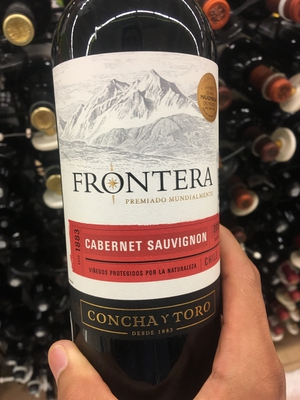frontera cabernet sauvignon: (45, 6, 243, 371)
